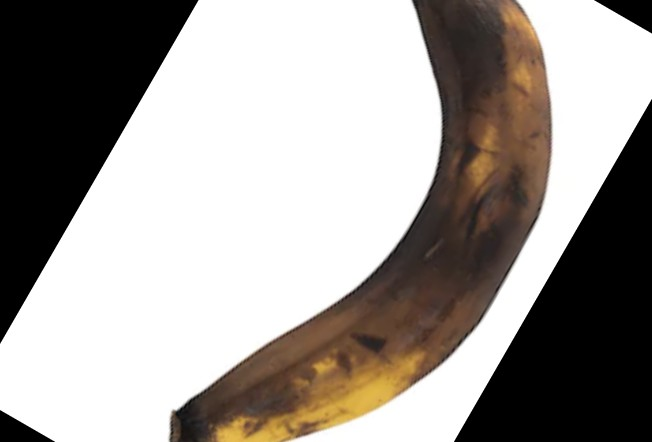rotten_banana: (174, 1, 554, 442)
